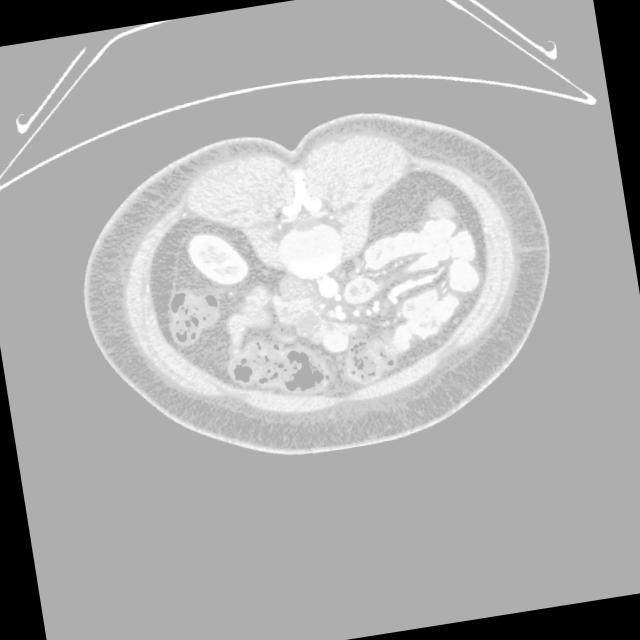NORMAL: (49, 95, 602, 480)
